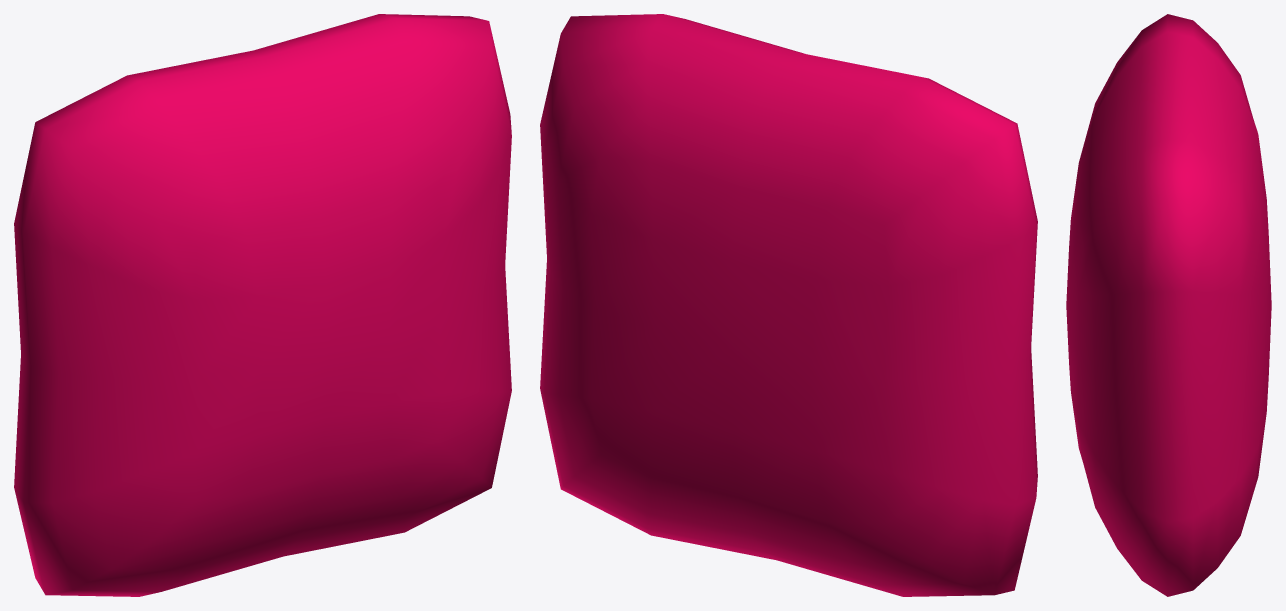
File: Sofa_04_Pillow_03_Lod0.fbx
3 views of the same model, side by side, from view 1: azimuth 30°, elevation 25°; view 2: azimuth 150°, elevation 25°; view 3: azimuth 270°, elevation 25° (orthographic). The views are drawn at different scales.
Parts seen in each view (by area): view 1: Sofa_04_Pillow_03_Lod0; view 2: Sofa_04_Pillow_03_Lod0; view 3: Sofa_04_Pillow_03_Lod0.
Boxes of the visible parts, x1=… form: Sofa_04_Pillow_03_Lod0: x1=14, y1=14, x2=511, y2=596; Sofa_04_Pillow_03_Lod0: x1=540, y1=14, x2=1037, y2=596; Sofa_04_Pillow_03_Lod0: x1=1066, y1=14, x2=1271, y2=596.
Size of the model in its own units: 49.85 by 50.45 by 21.33.
